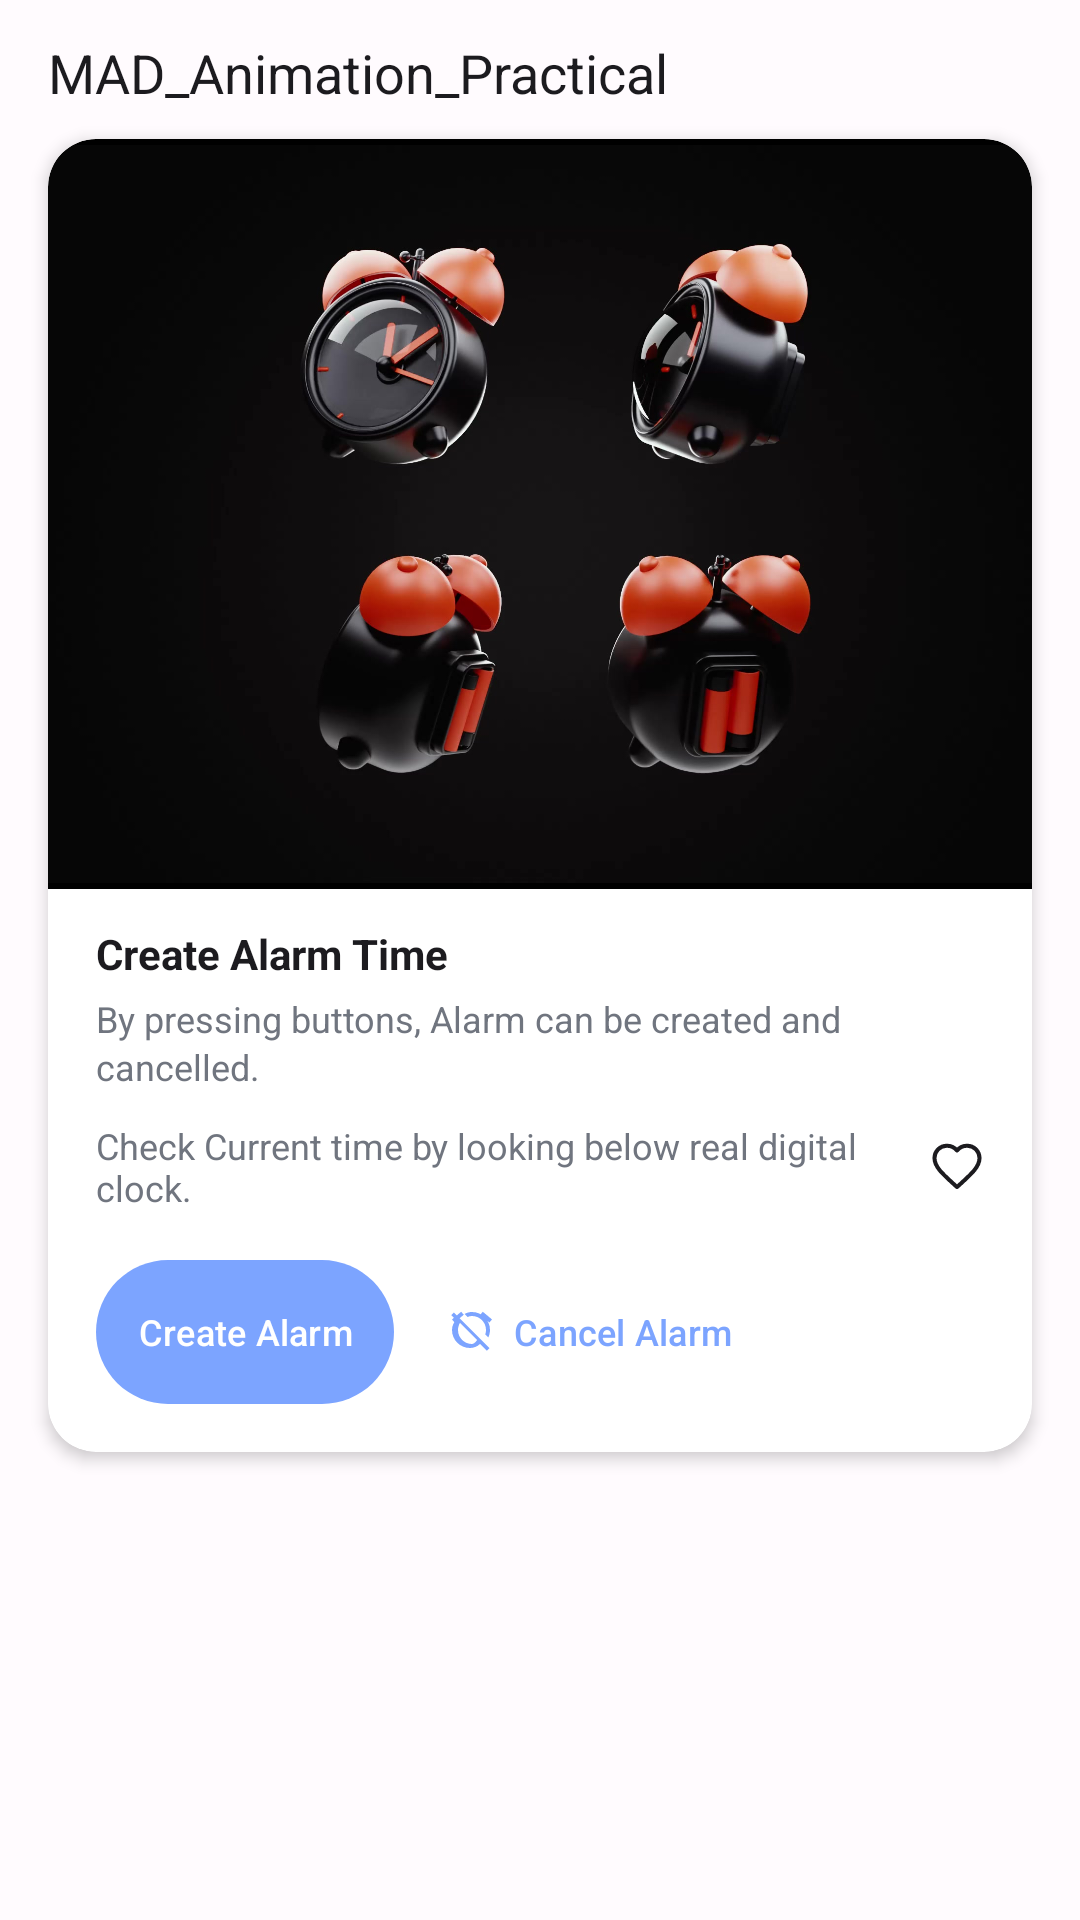

Named icons in this screenshot (1080x1920) and their centers, [x,y]:
Heart Animation: [957,1166]
